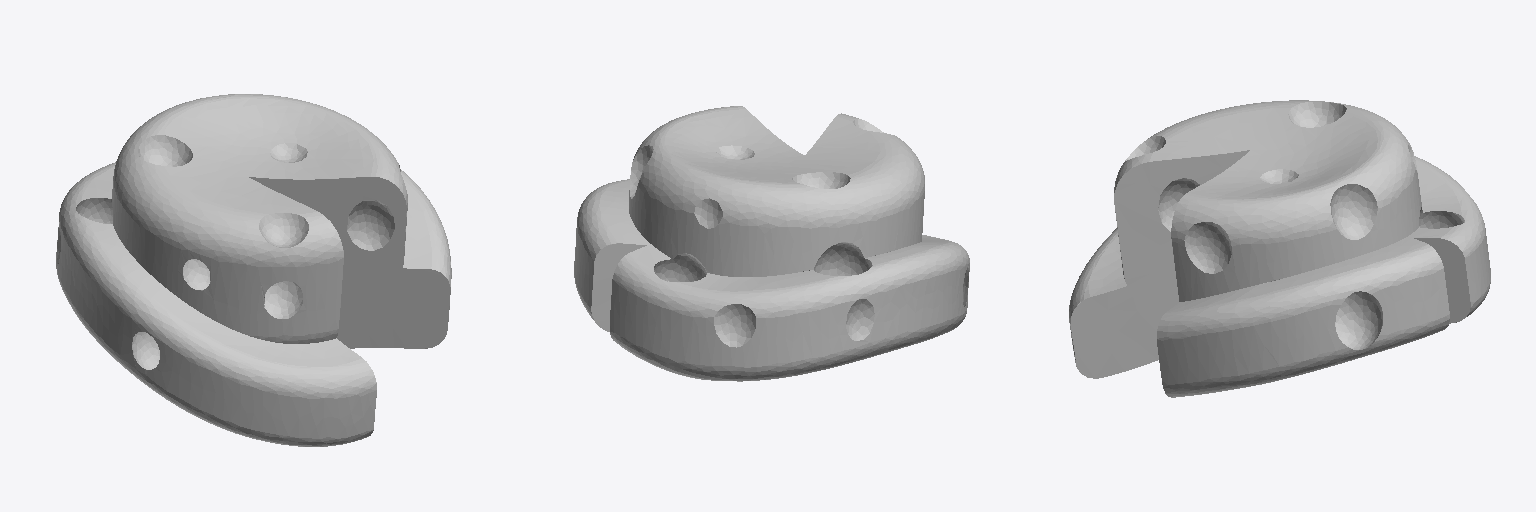
File: Cheese.obj
The picture shows the model from 3 angles: view 1: azimuth 30°, elevation 25°; view 2: azimuth 150°, elevation 25°; view 3: azimuth 270°, elevation 25°; orthographic projection.
Visible parts, largest first — view 1: Handle1; view 2: Handle1; view 3: Handle1.
Part boxes in pixels (x1,y1,x2,y2): Handle1: (56,94,451,446); Handle1: (574,106,969,381); Handle1: (1069,100,1490,397).
Bounding box in the file's own units: 1.54 × 1.03 × 1.69.